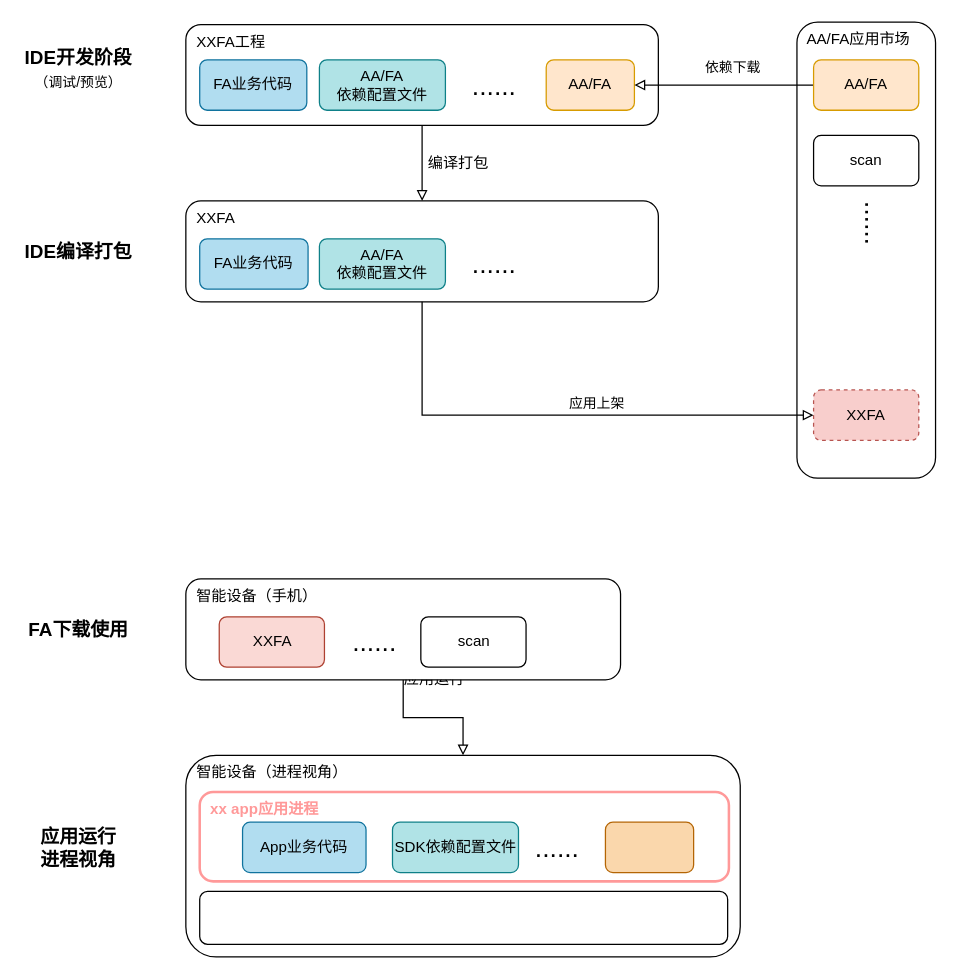
The diagram is 958 pixels wide and 979 high, and some of its shapes have lost their labels. Each missing label, with the centre of its shape:
SDK包: point (649, 847)
wechat应用进程: point (463, 917)
